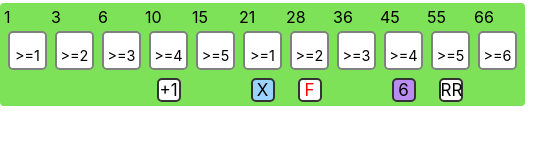
GreenScore › should deselect the first selected box from the right when a selected box is clicked
Click the element with test id "box" showing ">=6". click: (498, 50)
box: [478,31,517,70]
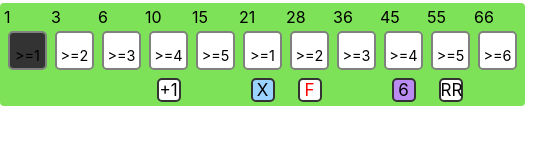
Click the element with test id "box" showing ">=6". click: (498, 50)
box: [478,31,517,70]
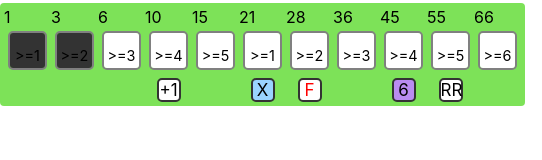
Click the element with test id "box" showing ">=6". click: (498, 50)
box: [478,31,517,70]
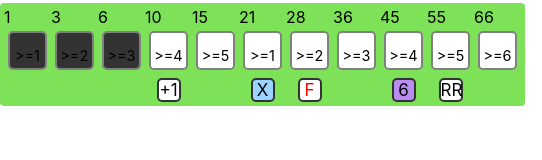
expect the 3rd element with test id "selected" is shown: met, box [104,33,139,68]
Click the 1st element with test id "box". click: (28, 50)
box: [8,31,47,70]
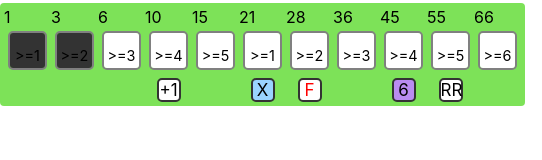
expect the 1st element with test id "deselected" is shown: met, box [108,47,135,64]
